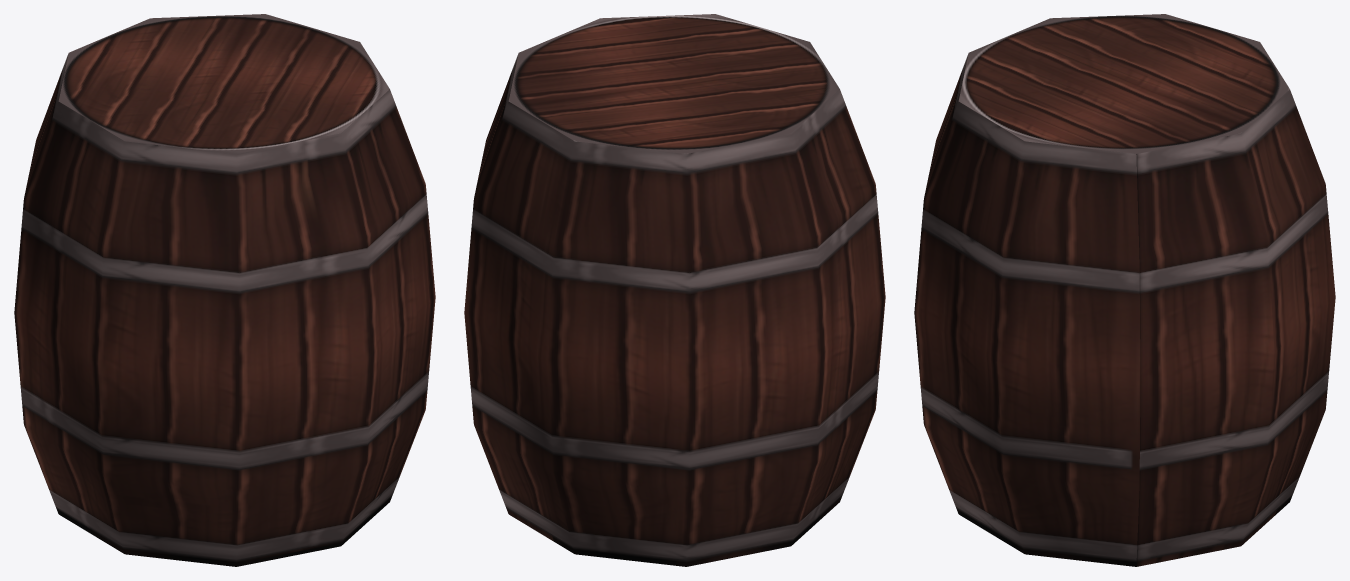
Rendered from Barrel.FBX.
3 renders of one model, left to right at view 1: azimuth 30°, elevation 25°; view 2: azimuth 150°, elevation 25°; view 3: azimuth 270°, elevation 25°, orthographic.
Parts seen in each view (by area): view 1: Object001; view 2: Object001; view 3: Object001.
Boxes of the visible parts, x1,y1,x2,y2 form: Object001: (14,14,435,566); Object001: (464,14,885,566); Object001: (914,14,1335,566).
Size of the model in its own units: 0.338 by 0.3656 by 0.338.
